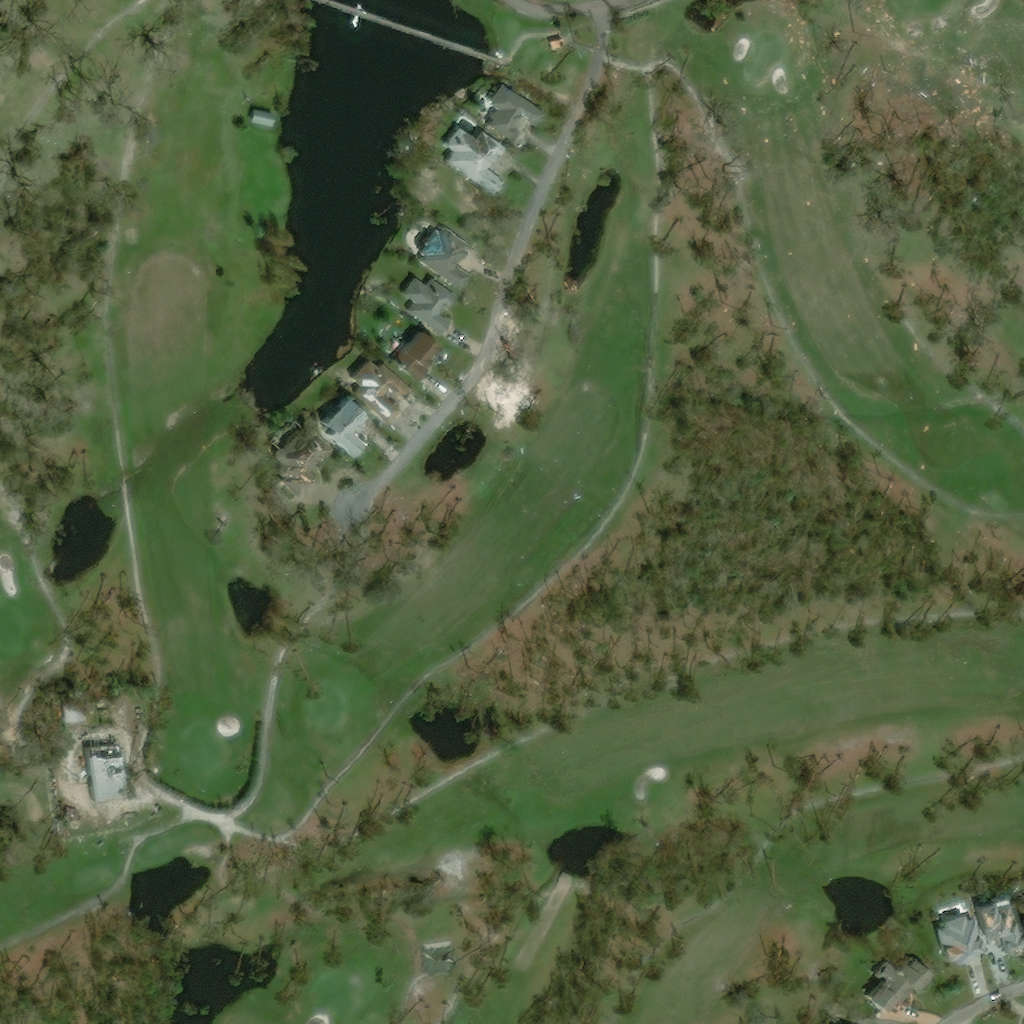destroyed: (423, 938, 459, 965)
major_damage: (82, 726, 128, 799)
minor_damage: (349, 359, 415, 422), (274, 419, 334, 484), (417, 226, 472, 289), (445, 126, 509, 180), (974, 887, 1023, 955), (932, 903, 981, 963)
no_damage: (865, 957, 935, 1012), (488, 83, 547, 139), (404, 275, 459, 334), (318, 397, 364, 456), (393, 327, 441, 383), (268, 244, 294, 267), (250, 107, 274, 126), (1014, 893, 1023, 939), (312, 1011, 337, 1023)
